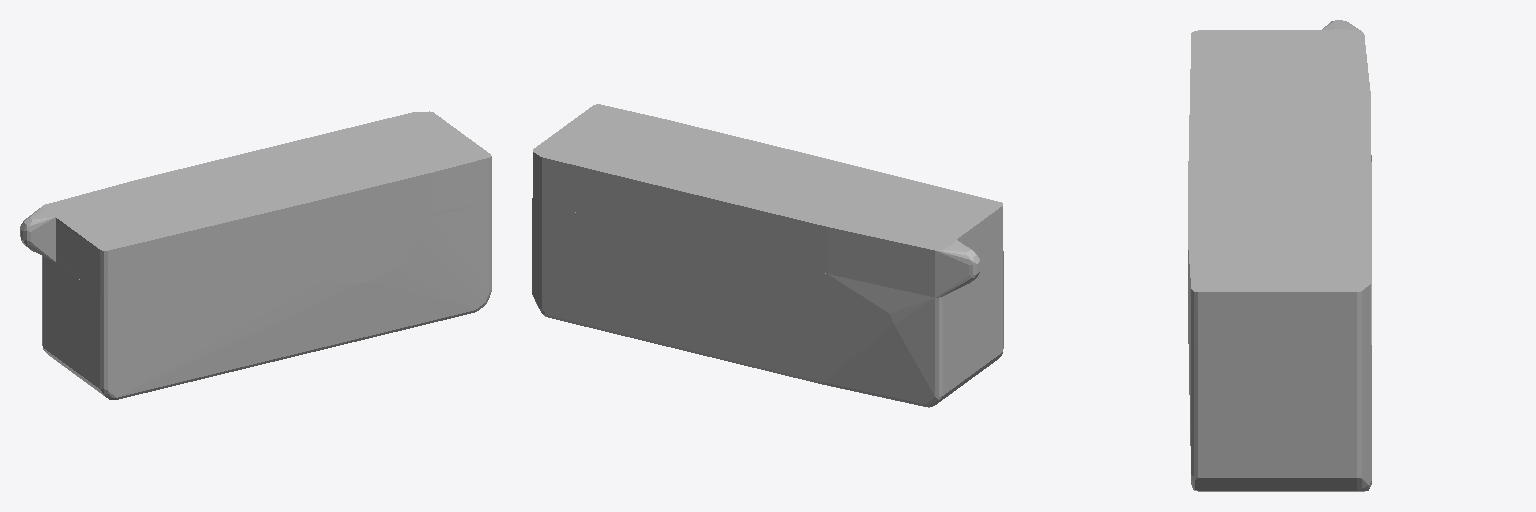
The robot description file, URDF, robot "root":
<robot name="root">
  <link name="link_coacd_convex_piece_0">
    <inertial>
      <origin xyz="0 0 0" rpy="0 0 0"/>
      <inertia ixx="3.45E-03" ixy="4.26E-03" ixz="-4.33E-05" iyy="6.65E-03" iyz="-4.43E-05" izz="8.25E-03"/>
    </inertial>
    <visual>
      <origin xyz="0 0 0" rpy="0 0 0"/>
      <geometry>
        <mesh filename="coacd_convex_piece_0.obj" scale="1.0000E+00 1.0000E+00 1.0000E+00"/>
      </geometry>
      <material name="">
        <color rgba="7.50E-01 7.50E-01 7.50E-01 1"/>
      </material>
    </visual>
    <collision>
      <origin xyz="0 0 0" rpy="0 0 0"/>
      <geometry>
        <mesh filename="coacd_convex_piece_0.obj" scale="1.0000E+00 1.0000E+00 1.0000E+00"/>
      </geometry>
    </collision>
  </link>
  <link name="link_coacd_convex_piece_1">
    <inertial>
      <origin xyz="0 0 0" rpy="0 0 0"/>
      <inertia ixx="2.96E-02" ixy="4.75E-04" ixz="-3.65E-03" iyy="7.16E-02" iyz="-9.85E-03" izz="5.36E-02"/>
    </inertial>
    <visual>
      <origin xyz="0 0 0" rpy="0 0 0"/>
      <geometry>
        <mesh filename="coacd_convex_piece_1.obj" scale="1.0000E+00 1.0000E+00 1.0000E+00"/>
      </geometry>
      <material name="">
        <color rgba="7.50E-01 7.50E-01 7.50E-01 1"/>
      </material>
    </visual>
    <collision>
      <origin xyz="0 0 0" rpy="0 0 0"/>
      <geometry>
        <mesh filename="coacd_convex_piece_1.obj" scale="1.0000E+00 1.0000E+00 1.0000E+00"/>
      </geometry>
    </collision>
  </link>
  <joint name="link_coacd_convex_piece_1_joint" type="fixed">
    <origin xyz="0 0 0" rpy="0 0 0"/>
    <parent link="link_coacd_convex_piece_0"/>
    <child link="link_coacd_convex_piece_1"/>
  </joint>
  <link name="link_coacd_convex_piece_2">
    <inertial>
      <origin xyz="0 0 0" rpy="0 0 0"/>
      <inertia ixx="3.02E-02" ixy="2.39E-04" ixz="3.83E-03" iyy="7.19E-02" iyz="9.35E-03" izz="5.25E-02"/>
    </inertial>
    <visual>
      <origin xyz="0 0 0" rpy="0 0 0"/>
      <geometry>
        <mesh filename="coacd_convex_piece_2.obj" scale="1.0000E+00 1.0000E+00 1.0000E+00"/>
      </geometry>
      <material name="">
        <color rgba="7.50E-01 7.50E-01 7.50E-01 1"/>
      </material>
    </visual>
    <collision>
      <origin xyz="0 0 0" rpy="0 0 0"/>
      <geometry>
        <mesh filename="coacd_convex_piece_2.obj" scale="1.0000E+00 1.0000E+00 1.0000E+00"/>
      </geometry>
    </collision>
  </link>
  <joint name="link_coacd_convex_piece_2_joint" type="fixed">
    <origin xyz="0 0 0" rpy="0 0 0"/>
    <parent link="link_coacd_convex_piece_1"/>
    <child link="link_coacd_convex_piece_2"/>
  </joint>
  <link name="link_coacd_convex_piece_3">
    <inertial>
      <origin xyz="0 0 0" rpy="0 0 0"/>
      <inertia ixx="2.22E-03" ixy="-1.12E-04" ixz="-3.63E-06" iyy="5.78E-03" iyz="2.61E-05" izz="7.86E-03"/>
    </inertial>
    <visual>
      <origin xyz="0 0 0" rpy="0 0 0"/>
      <geometry>
        <mesh filename="coacd_convex_piece_3.obj" scale="1.0000E+00 1.0000E+00 1.0000E+00"/>
      </geometry>
      <material name="">
        <color rgba="7.50E-01 7.50E-01 7.50E-01 1"/>
      </material>
    </visual>
    <collision>
      <origin xyz="0 0 0" rpy="0 0 0"/>
      <geometry>
        <mesh filename="coacd_convex_piece_3.obj" scale="1.0000E+00 1.0000E+00 1.0000E+00"/>
      </geometry>
    </collision>
  </link>
  <joint name="link_coacd_convex_piece_3_joint" type="fixed">
    <origin xyz="0 0 0" rpy="0 0 0"/>
    <parent link="link_coacd_convex_piece_2"/>
    <child link="link_coacd_convex_piece_3"/>
  </joint>
  <link name="link_coacd_convex_piece_4">
    <inertial>
      <origin xyz="0 0 0" rpy="0 0 0"/>
      <inertia ixx="3.02E-04" ixy="3.64E-04" ixz="-2.05E-05" iyy="1.45E-02" iyz="-3.34E-05" izz="1.45E-02"/>
    </inertial>
    <visual>
      <origin xyz="0 0 0" rpy="0 0 0"/>
      <geometry>
        <mesh filename="coacd_convex_piece_4.obj" scale="1.0000E+00 1.0000E+00 1.0000E+00"/>
      </geometry>
      <material name="">
        <color rgba="7.50E-01 7.50E-01 7.50E-01 1"/>
      </material>
    </visual>
    <collision>
      <origin xyz="0 0 0" rpy="0 0 0"/>
      <geometry>
        <mesh filename="coacd_convex_piece_4.obj" scale="1.0000E+00 1.0000E+00 1.0000E+00"/>
      </geometry>
    </collision>
  </link>
  <joint name="link_coacd_convex_piece_4_joint" type="fixed">
    <origin xyz="0 0 0" rpy="0 0 0"/>
    <parent link="link_coacd_convex_piece_3"/>
    <child link="link_coacd_convex_piece_4"/>
  </joint>
</robot>

--- Facts derived from the render (not from the file) ---
3 views of the same robot in one strip: view 1: azimuth 30°, elevation 25°; view 2: azimuth 150°, elevation 25°; view 3: azimuth 270°, elevation 25° (orthographic).
Robot: root — 5 links, 4 joints (4 fixed); root link link_coacd_convex_piece_0; default pose: all joints at 0.
Visible links, largest first — view 1: link_coacd_convex_piece_2, link_coacd_convex_piece_4, link_coacd_convex_piece_3; view 2: link_coacd_convex_piece_2, link_coacd_convex_piece_3, link_coacd_convex_piece_4; view 3: link_coacd_convex_piece_4, link_coacd_convex_piece_2, link_coacd_convex_piece_3.
Link boxes in pixels (x1,y1,x2,y2): link_coacd_convex_piece_2: (42,201,491,399); link_coacd_convex_piece_4: (56,122,491,295); link_coacd_convex_piece_3: (20,111,445,261); link_coacd_convex_piece_2: (532,198,1003,407); link_coacd_convex_piece_3: (533,140,979,297); link_coacd_convex_piece_4: (547,104,1002,268); link_coacd_convex_piece_4: (1188,30,1320,353); link_coacd_convex_piece_2: (1188,155,1371,491); link_coacd_convex_piece_3: (1321,20,1370,353).
Size in the robot's own frame: 1.64 by 0.4513 by 0.5752 metres.
3 mesh visuals loaded from 5 distinct referenced files (3 OBJ); not drawn: 2 (reference not matched to a file when rendering).